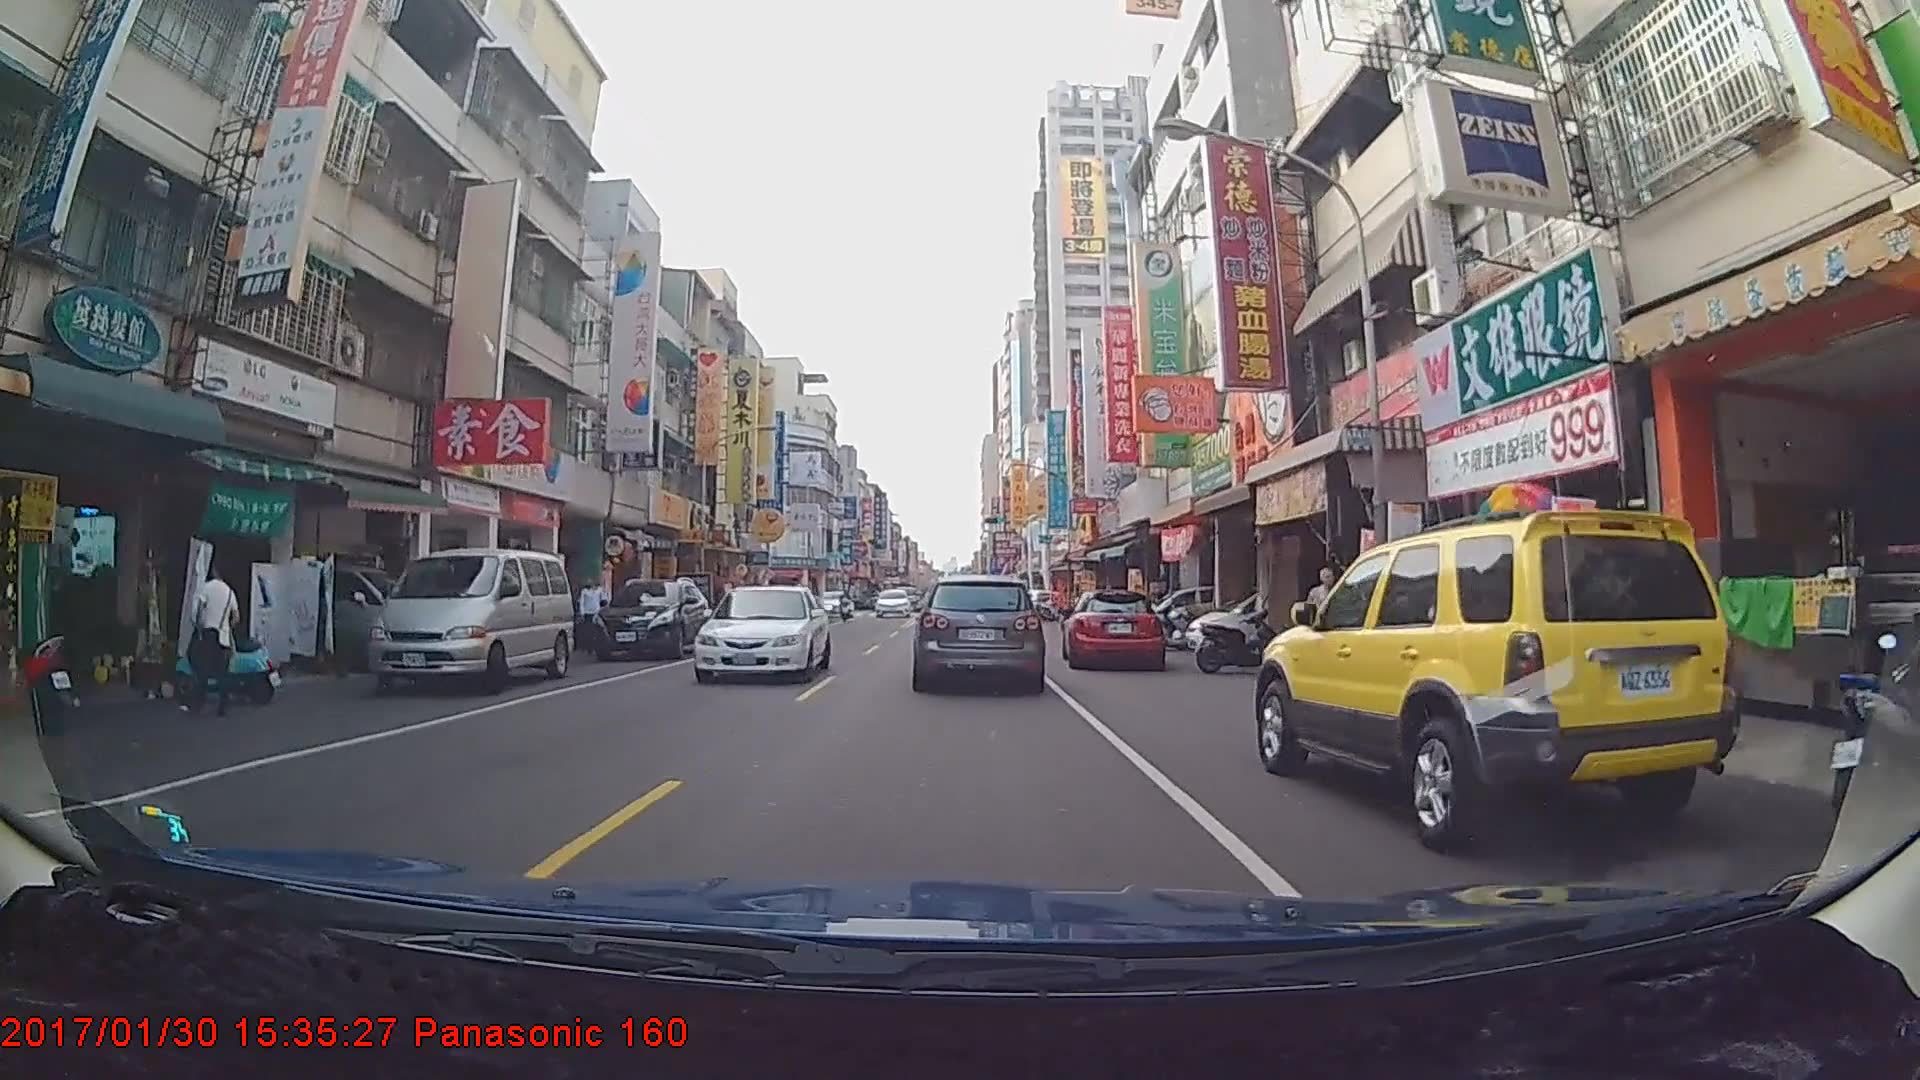pedestrian: (184, 560, 242, 718), (579, 573, 609, 646)
vehicle: (1253, 499, 1728, 839), (362, 545, 573, 693), (916, 574, 1044, 689), (691, 583, 829, 684), (591, 575, 708, 659), (1060, 585, 1164, 666), (875, 588, 911, 619), (816, 589, 850, 613)
